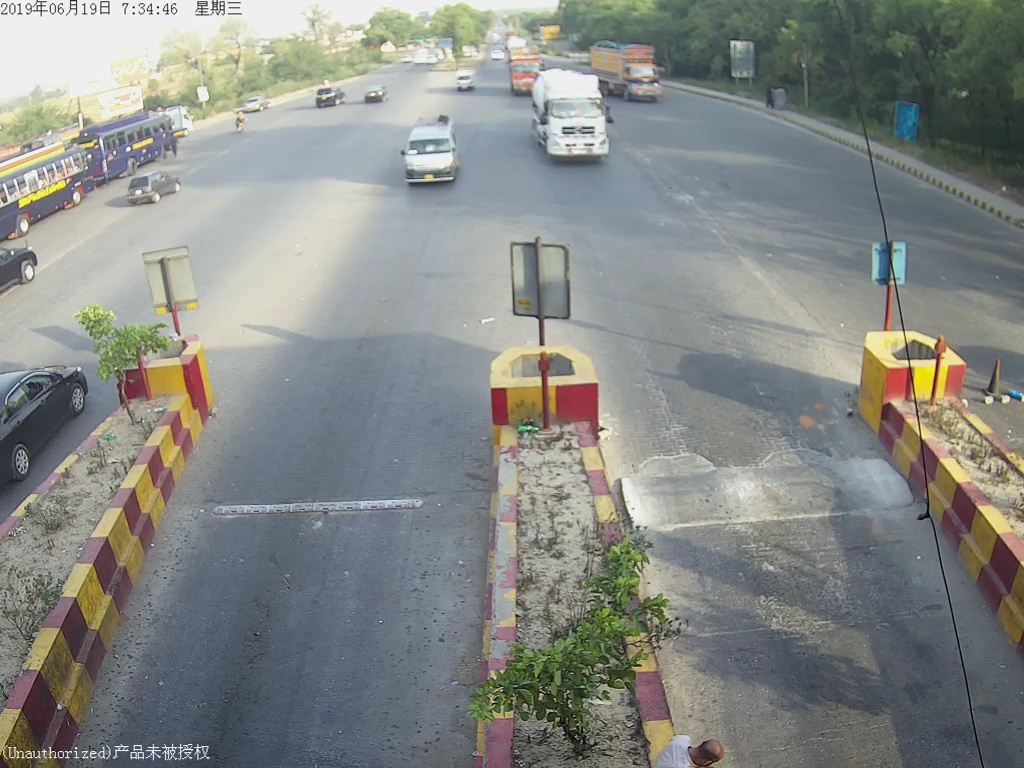Cat-2: (397, 124, 470, 190)
